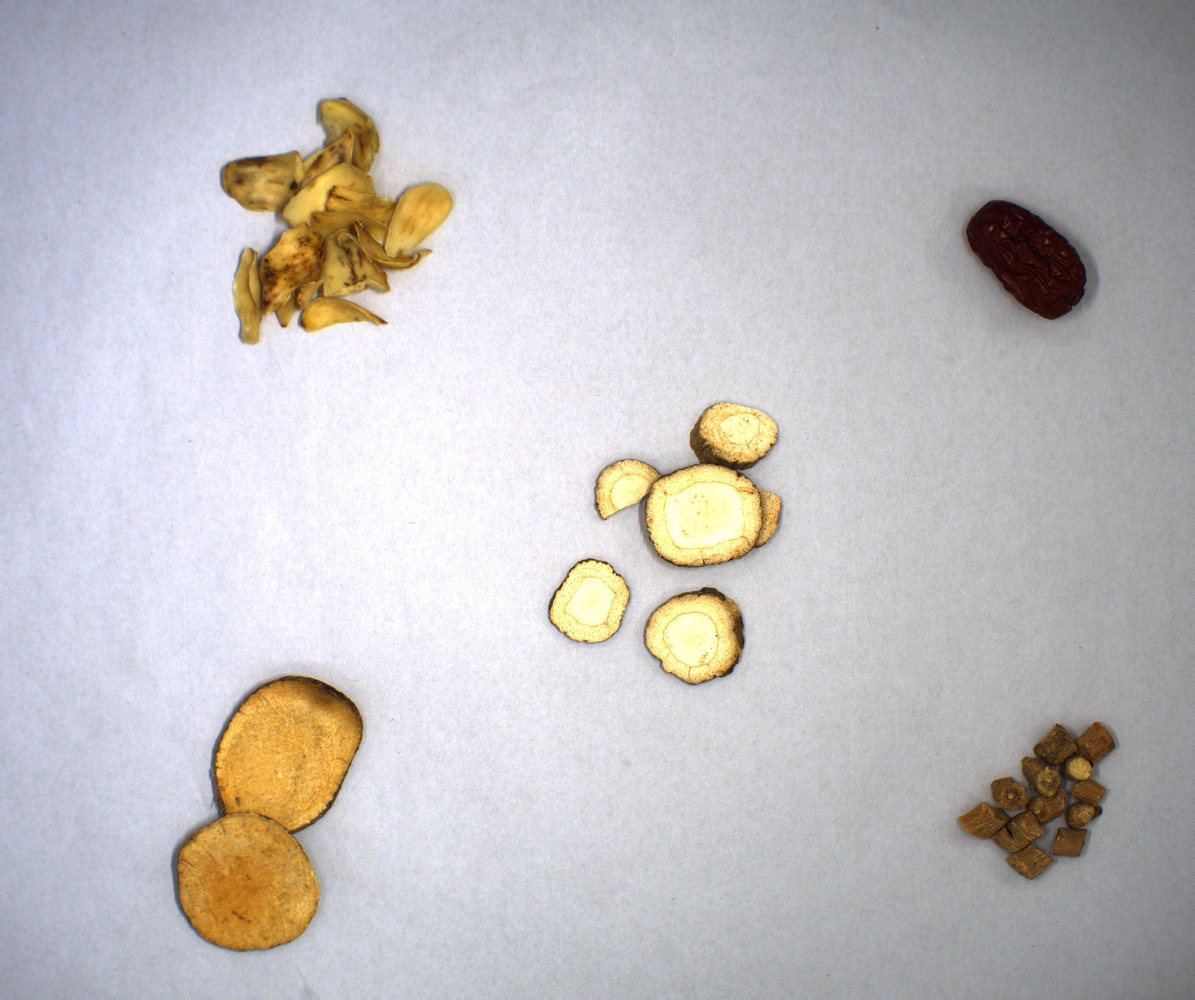baihe: (185, 60, 505, 346)
baizhi: (540, 345, 841, 697)
dazao: (917, 124, 1117, 362)
niuxi: (945, 680, 1146, 892)
zexie: (114, 636, 438, 952)
